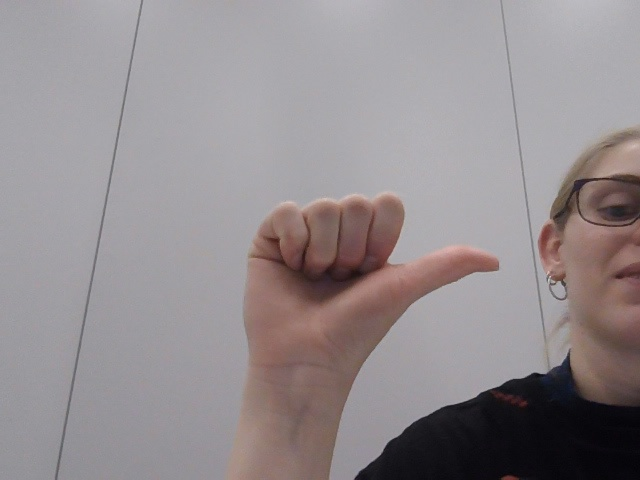left: (209, 109, 529, 429)
